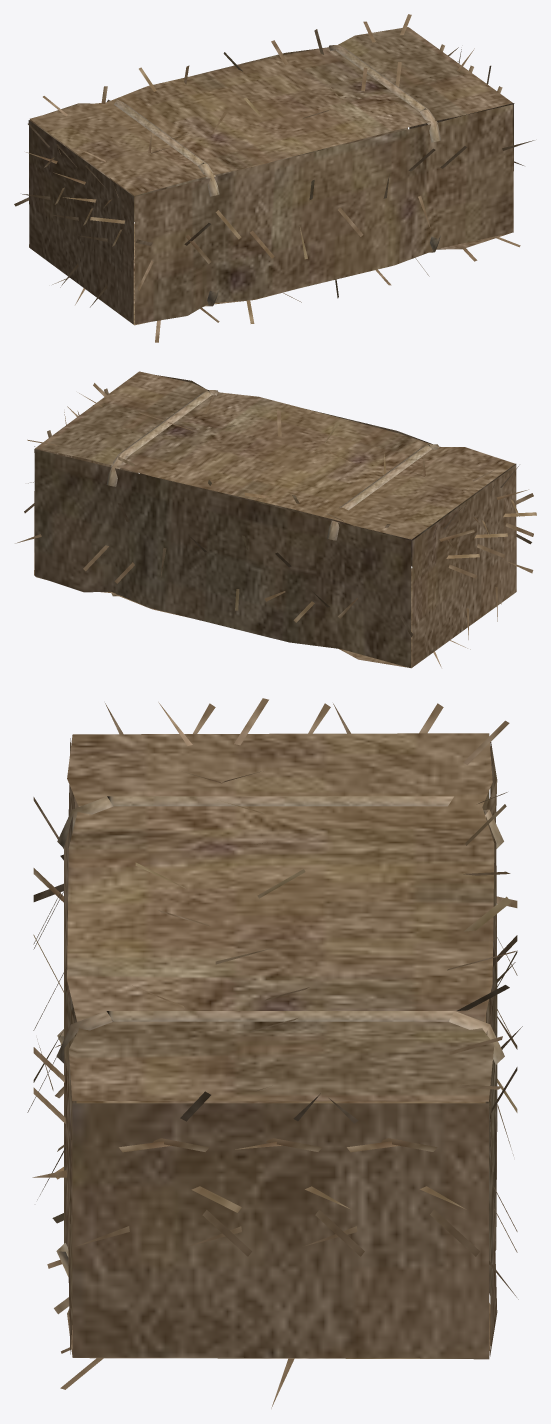
File: vc_hay.glb
3 views of the same model, one above another, from view 1: azimuth 30°, elevation 25°; view 2: azimuth 150°, elevation 25°; view 3: azimuth 270°, elevation 25° (orthographic). The views are drawn at different scales.
Parts seen in each view (by area): view 1: Cube.120_M_Hay_Atlas_01_TwoSided_0; view 2: Cube.120_M_Hay_Atlas_01_TwoSided_0; view 3: Cube.120_M_Hay_Atlas_01_TwoSided_0.
Part boxes in pixels (x1,y1,x2,y2): Cube.120_M_Hay_Atlas_01_TwoSided_0: [14, 14, 534, 342]; Cube.120_M_Hay_Atlas_01_TwoSided_0: [15, 371, 536, 668]; Cube.120_M_Hay_Atlas_01_TwoSided_0: [27, 698, 522, 1408].
Size of the model in its own units: 2.16 by 0.8422 by 1.09.
1 material, 1 textured.
